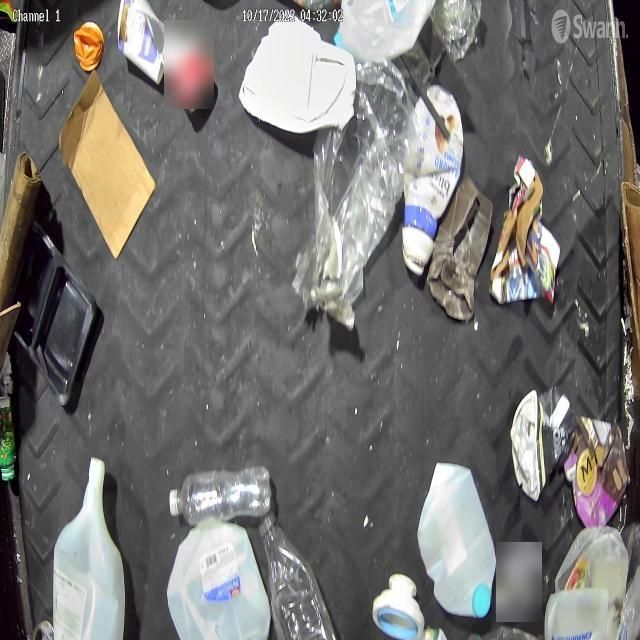milk_jug: (238, 11, 356, 133), (52, 457, 126, 640), (418, 458, 497, 618), (170, 522, 272, 639), (548, 522, 632, 638), (332, 0, 441, 63), (544, 588, 620, 639)
plastic_bottle: (258, 516, 338, 640), (170, 462, 274, 530)
